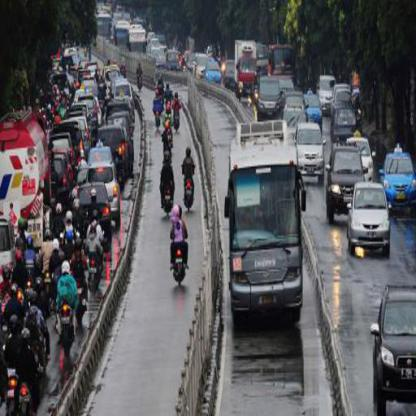bus: (226, 162, 305, 323)
car: (372, 283, 415, 414), (348, 183, 392, 256), (329, 146, 366, 216), (382, 152, 415, 206), (294, 122, 325, 175), (330, 86, 357, 144), (257, 77, 290, 121), (318, 74, 336, 106)
motorbike: (54, 299, 80, 360), (169, 241, 193, 285), (180, 175, 198, 212), (158, 180, 176, 213)
